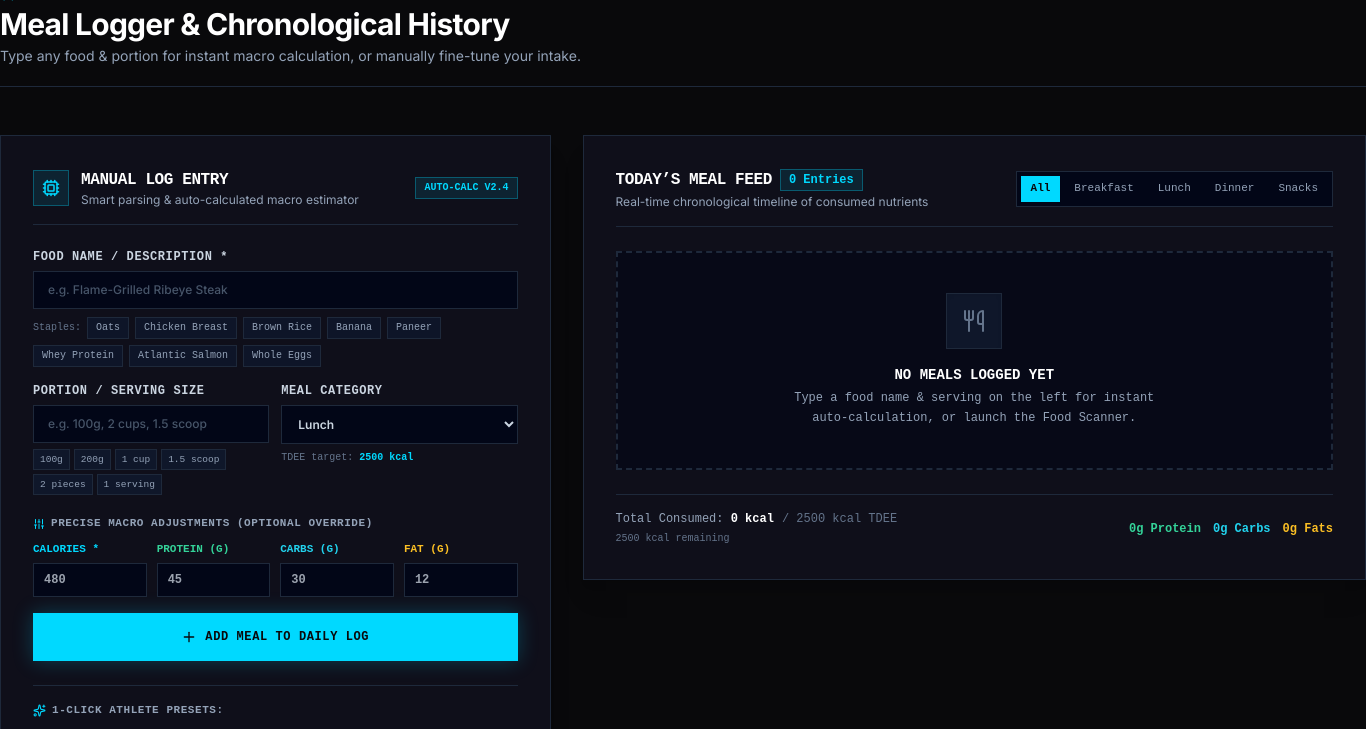
MealLogger Component › automatically calculates macros and shows live preview card when typing food name and portion
In the field with placeholder "e.g. Flame-Grilled Ribeye Steak": [275, 290] box [33, 271, 518, 309], type "Oats"
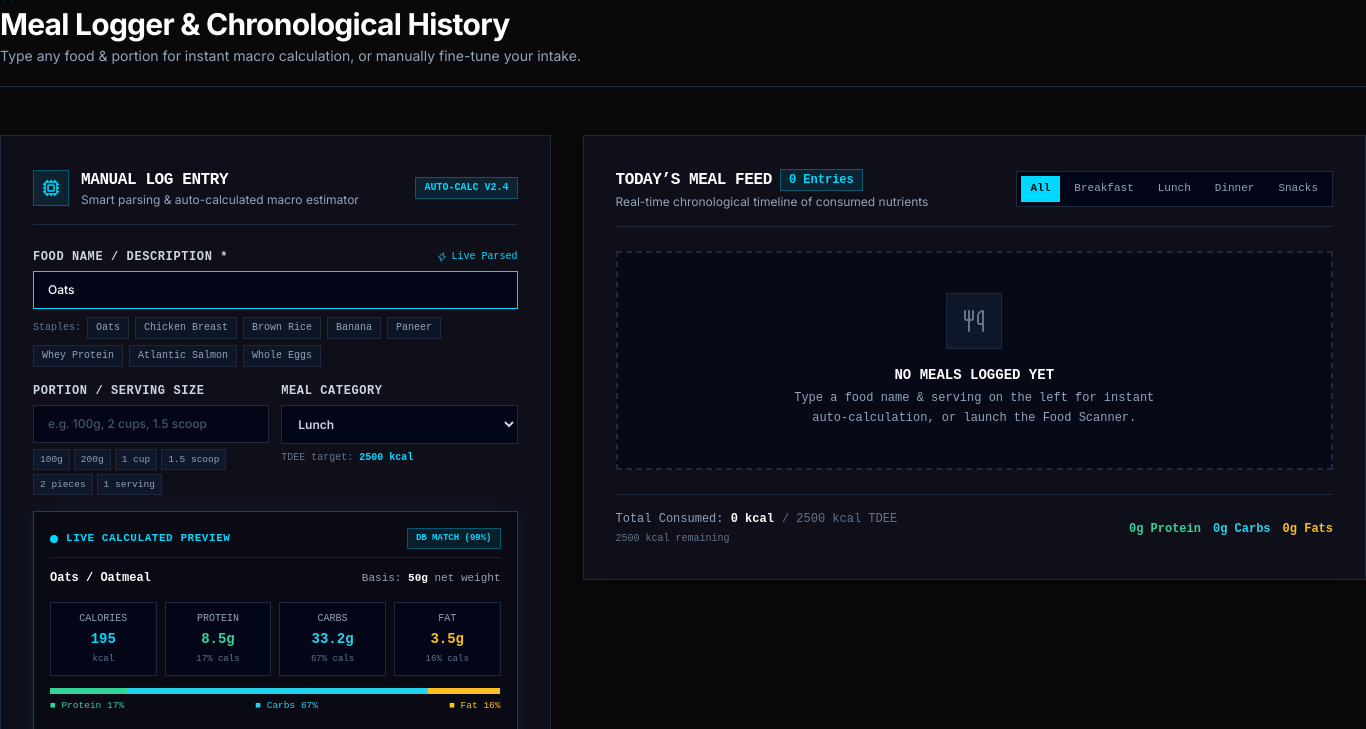
In the field with placeholder "e.g. 100g, 2 cups, 1.5 scoop": [151, 424] box [33, 405, 269, 443], type "100g"
(page scrolled)
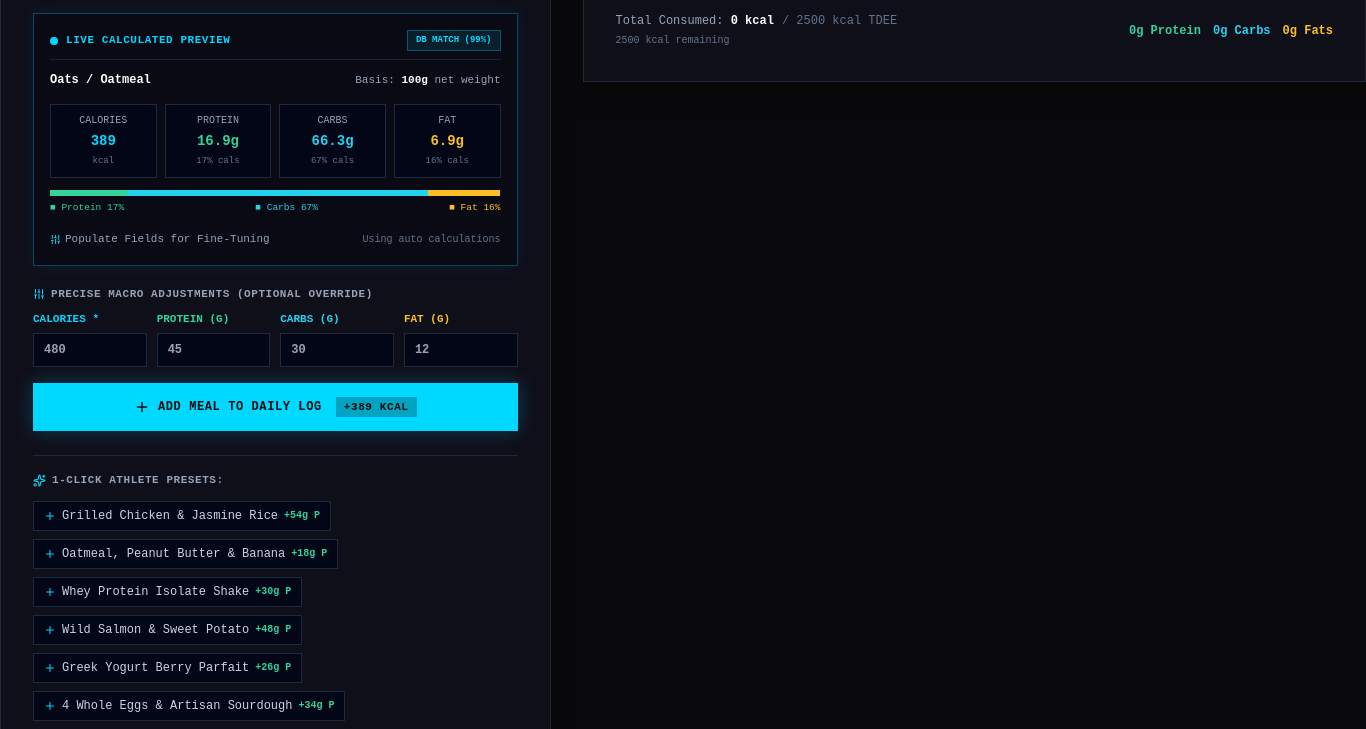
Check: the text "Live Calculated Preview" is shown, box [66, 32, 230, 49]
Check: the text "Oats / Oatmeal" is shown, box [50, 72, 151, 88]
Check: the text "DB Match (99%)" is shown, box [407, 30, 500, 51]
# Submit meal without typing into the macro inputs
Click the text "Add Meal to Daily Log": [240, 407] box [158, 399, 322, 415]
(page scrolled)
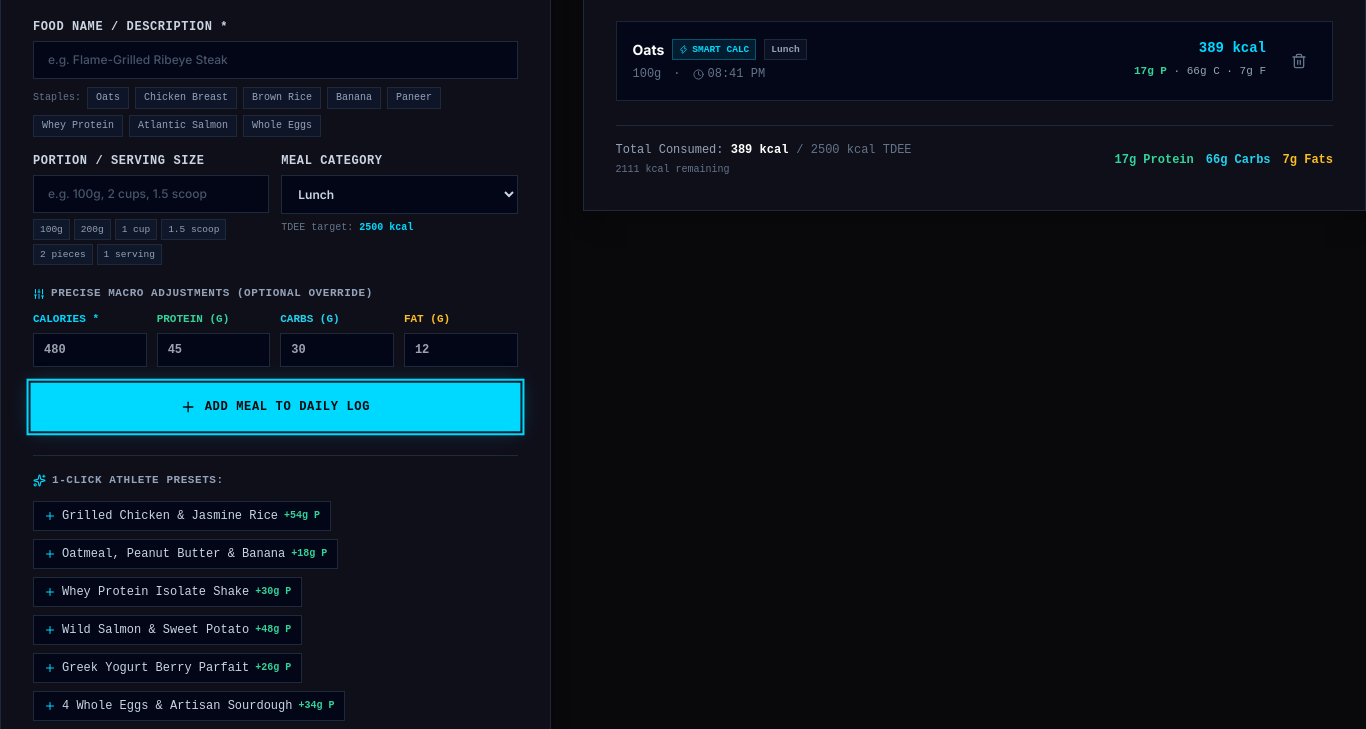
Check: the text "389 kcal" in the row of "Smart Calc" is shown, box [1199, 40, 1266, 56]
Check: the text "17g P" is shown, box [1134, 65, 1167, 77]
Check: the text "Smart Calc" is shown, box [692, 42, 749, 57]
